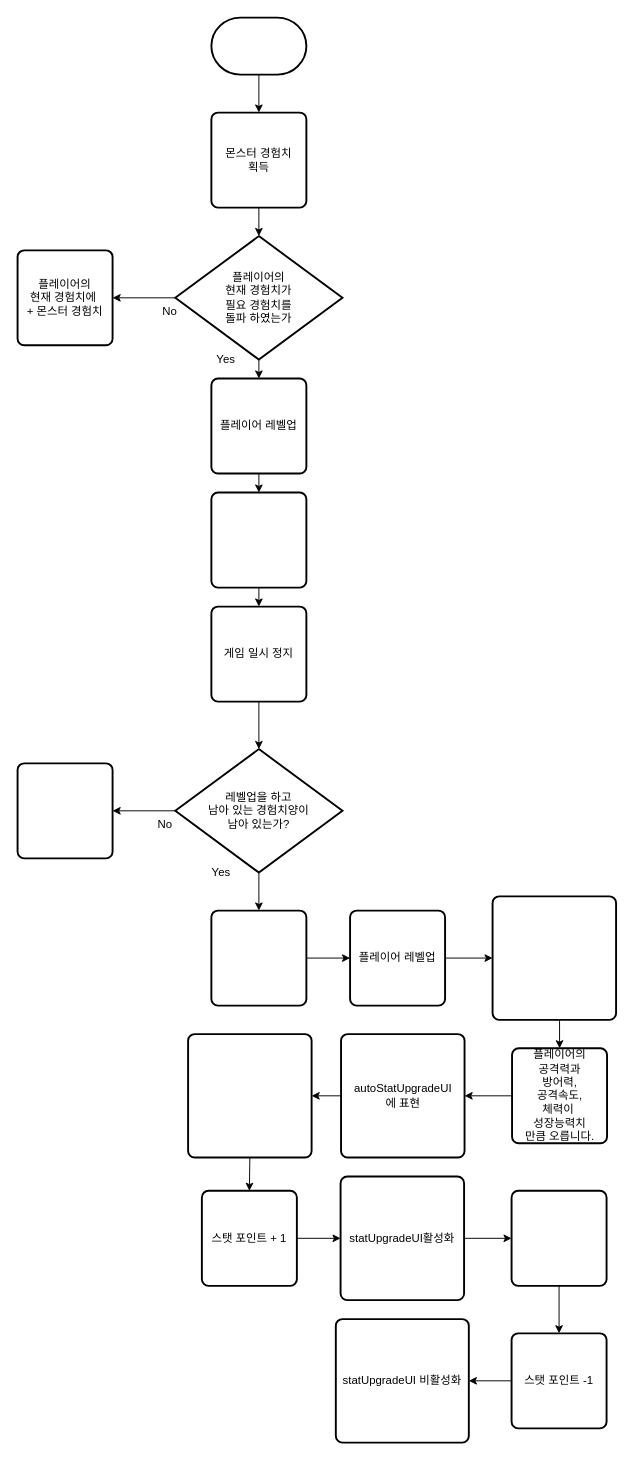
The diagram is 633 pixels wide and 1459 high, and some of its shapes have lost their labels. Here are the shapes that lost their labels. From the top down, the centre of each, then its label:
At pixel 258 45: "몬스터 처치".
At pixel 258 539: "레벨업 연출".
At pixel 64 810: "플레이어의 필요 경험치량은 0으로 설정됨".
At pixel 258 957: "플레이어의 현재 경험치에 + 남은 경험치".
At pixel 554 957: "autoStatUpgradeUI 활성화".
At pixel 249 1095: "autoStatUpgradeUI 비활성화".
At pixel 558 1237: "스탯 업그레이드 완료".
